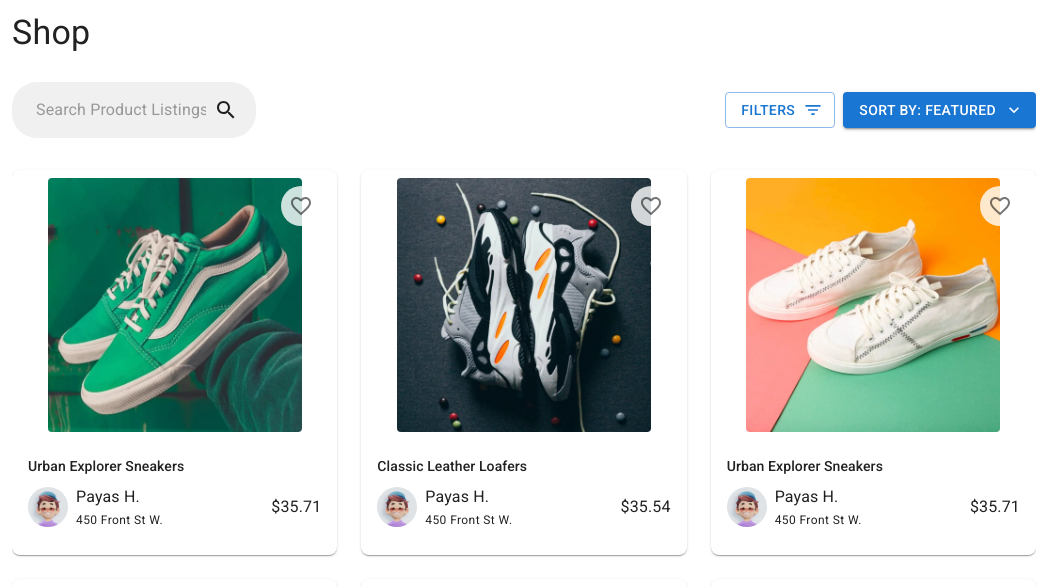
HomePage Component › should open sort by dropdown on user click
Click the button "Sort By: Featured" at x=940, y=110, box [843,92,1036,128]
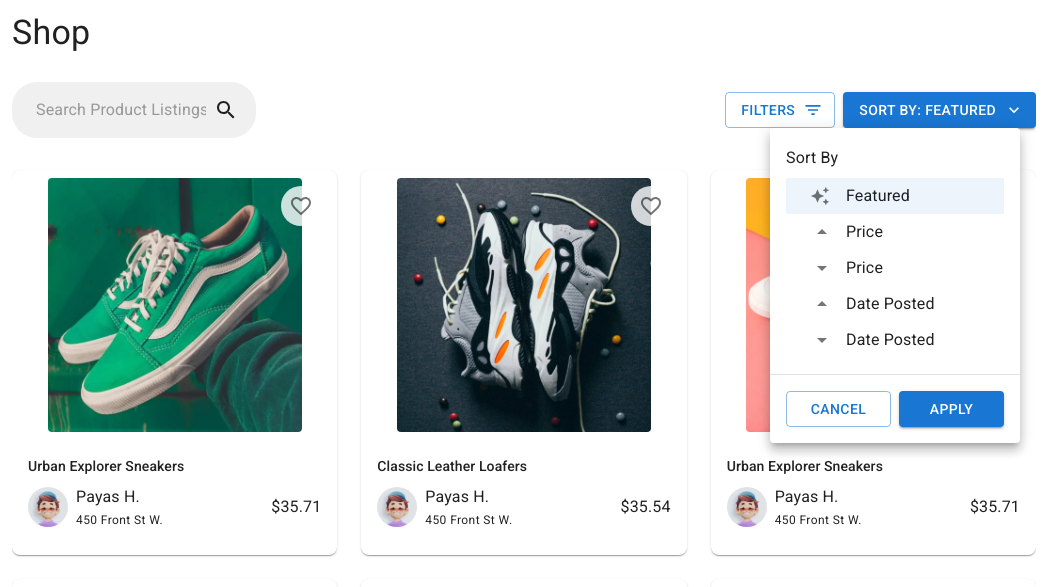
Expected: the text "Featured" is shown once, [846,186,910,205]
Expected: the text "Price" is shown 2 times, [846,222,883,241]; [846,258,883,277]
Expected: the text "Date Posted" is shown 2 times, [846,294,935,313]; [846,330,935,349]
